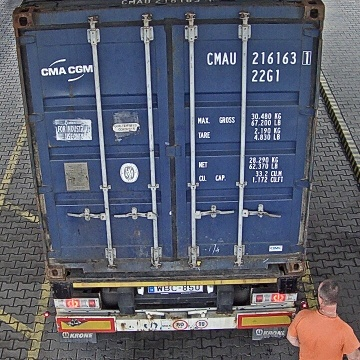serial_id: (207, 50, 311, 65)
